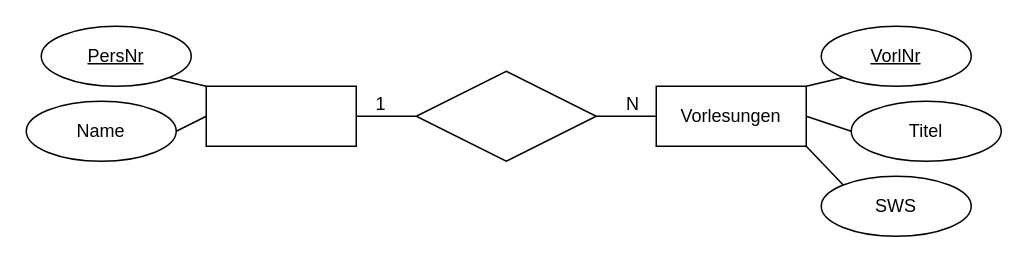
The diagram is 1028 pixels wide and 263 high, and some of its shapes have lost their labels. The centre of each missing label's shape, as x and y in pixels:
"lesen" goes at (x=505, y=115).
"Professoren" goes at (x=280, y=115).
